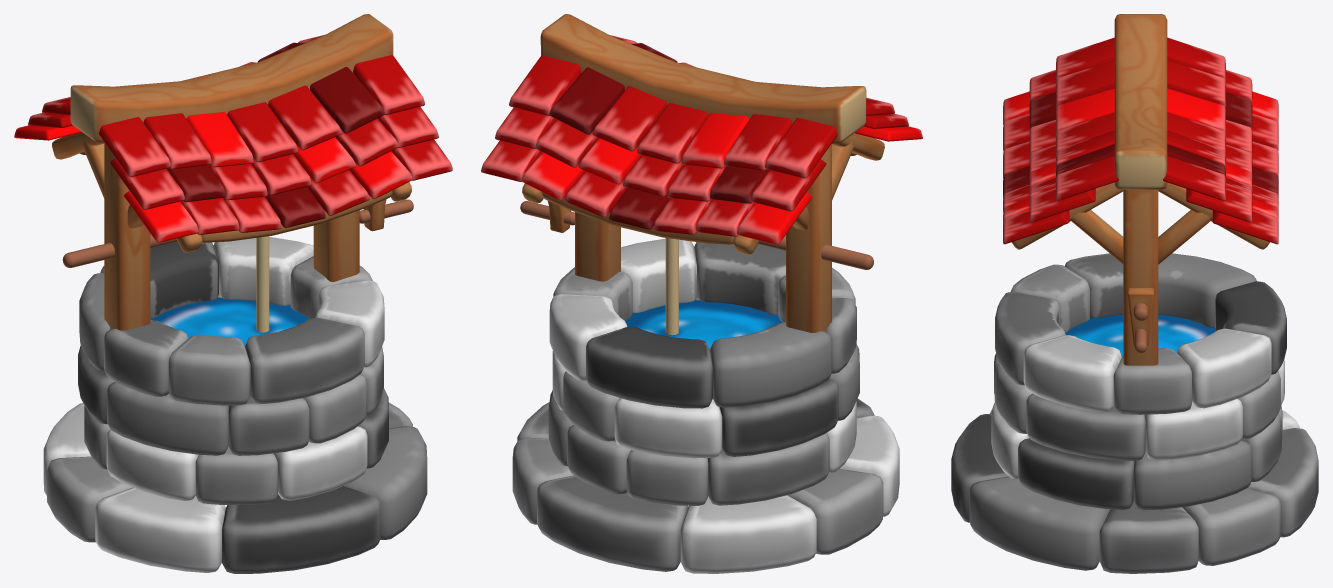
Rendered from well.fbx.
3 renders of one model, left to right at view 1: azimuth 30°, elevation 25°; view 2: azimuth 150°, elevation 25°; view 3: azimuth 270°, elevation 25°, orthographic. The views are drawn at different scales.
Visible parts, largest first — view 1: well; view 2: well; view 3: well.
Part boxes in pixels (x1=…): well: x1=14, y1=14, x2=452, y2=573; well: x1=481, y1=14, x2=922, y2=573; well: x1=951, y1=14, x2=1318, y2=573.
Bounding box in the file's own units: 205 × 246 × 196.
Materials: 4 (2 with a texture image).
